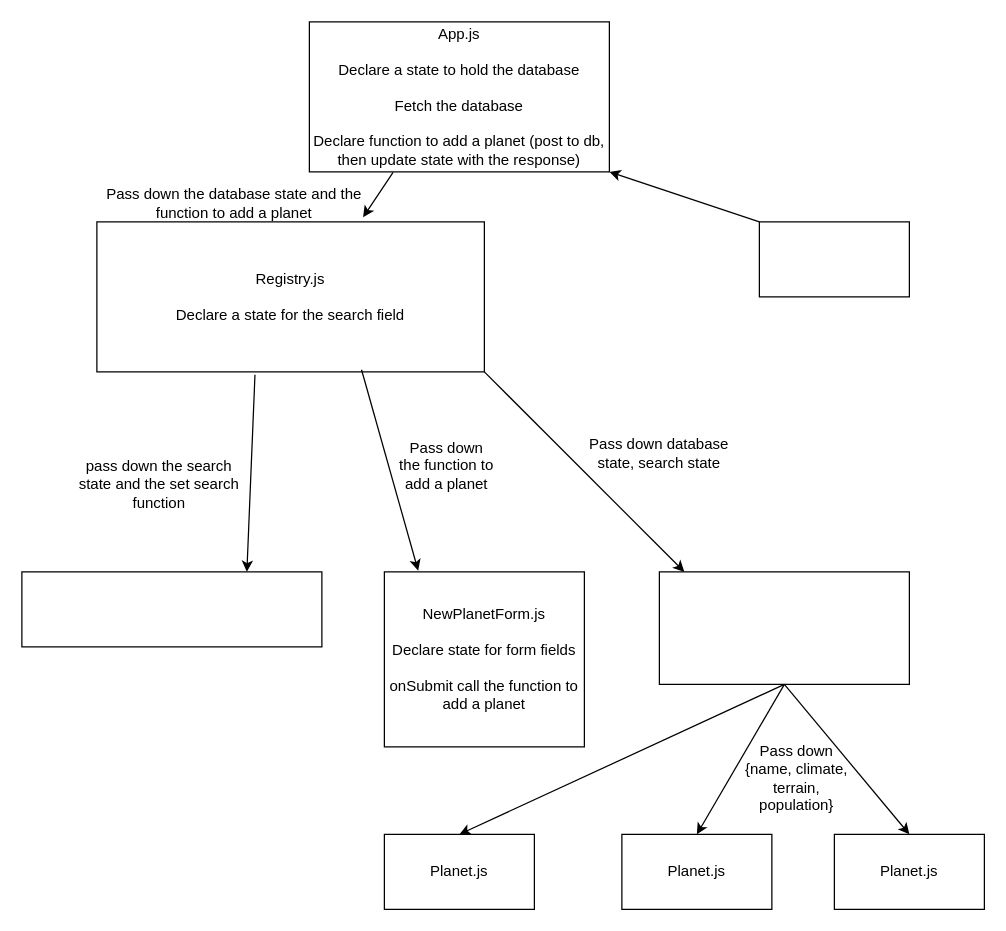
This 1006x931 diagram has some shape labels left out. The centre of each missing label's shape, as x and y in pixels:
"Header.js" belongs at pixel 833 259.
"PlanetList.js filter and map the planets array into Planet components" belongs at pixel 783 627.
"Search.js onChange call setSearch(e.target.value)" belongs at pixel 171 609.
